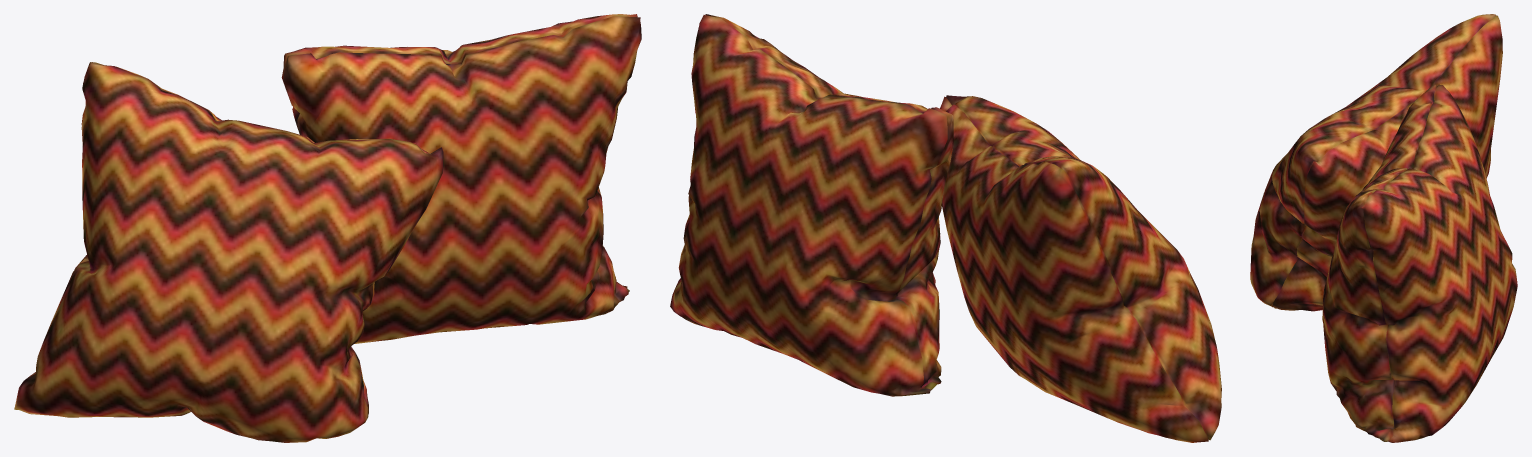
Rendered from throw_pillows_01.glb.
3 renders of one model, left to right at view 1: azimuth 30°, elevation 25°; view 2: azimuth 150°, elevation 25°; view 3: azimuth 270°, elevation 25°, orthographic. The views are drawn at different scales.
Visible parts, largest first — view 1: throw_pillows_01_pillow01, throw_pillows_01_pillow02; view 2: throw_pillows_01_pillow02, throw_pillows_01_pillow01; view 3: throw_pillows_01_pillow02, throw_pillows_01_pillow01.
Part boxes in pixels (x1=…): throw_pillows_01_pillow01: x1=14, y1=62, x2=443, y2=442; throw_pillows_01_pillow02: x1=281, y1=14, x2=641, y2=343; throw_pillows_01_pillow02: x1=670, y1=14, x2=953, y2=396; throw_pillows_01_pillow01: x1=940, y1=95, x2=1221, y2=442; throw_pillows_01_pillow02: x1=1322, y1=84, x2=1517, y2=442; throw_pillows_01_pillow01: x1=1250, y1=14, x2=1502, y2=311.
Bounding box in the file's own units: 0.9401 × 0.4501 × 0.4519.
Materials: 1 (1 with a texture image).
